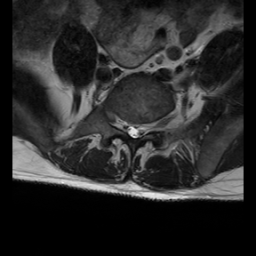CCS_stenosis: (130, 114, 138, 144)
LFS_normal: (146, 113, 155, 138)
LLS_normal: (138, 115, 146, 142)
RFS_normal: (115, 108, 122, 136)
RLS_normal: (122, 113, 130, 138)
